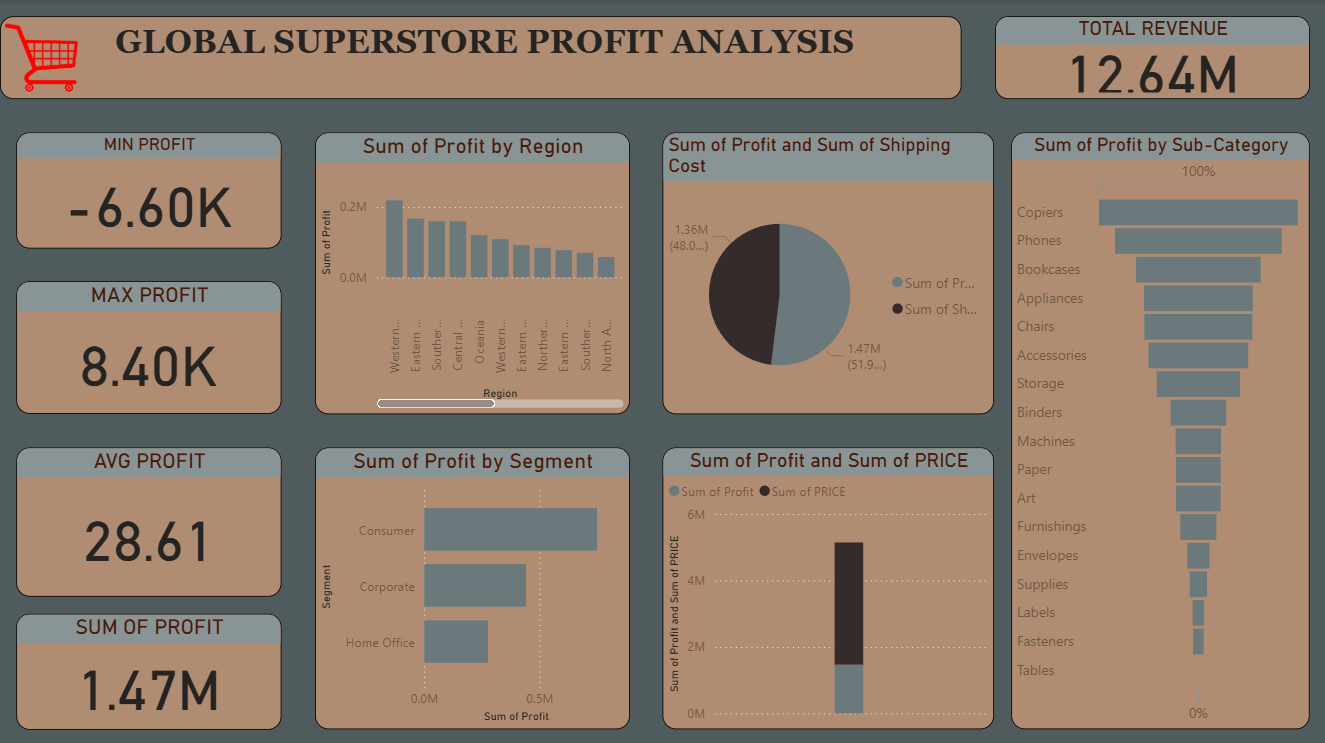

The dashboard page shown, as its layout file describes it:
{"tool":"powerbi","page":{"name":"Page 2","canvas":[1280,720],"ordinal":1},"visuals":[{"type":"card","title":"SUM OF PROFIT","fields":{"Values":["Sum(Orders.Profit)"]},"box":[16,592,256,112],"z":0},{"type":"card","title":"AVG PROFIT","fields":{"Values":["Orders.AVG PROFIT"]},"box":[16,432,256,144],"z":1000},{"type":"card","title":"MAX PROFIT","fields":{"Values":["Orders.MAX PROFIT"]},"box":[16,272,256,128],"z":2000},{"type":"card","title":"MIN PROFIT","fields":{"Values":["Orders.MIN PROFIT"]},"box":[16,128,256,112],"z":3000},{"type":"textbox","box":[0,16,928,80],"z":4000},{"type":"image","box":[0,16,80,80],"z":5000},{"type":"card","title":"TOTAL REVENUE","fields":{"Values":["CALENDER.TOTAL REVENUE"]},"box":[960,16,304,80],"z":6000},{"type":"clusteredColumnChart","fields":{"Category":["Orders.Region"],"Y":["Sum(Orders.Profit)"]},"box":[304,128,304,272],"z":7000},{"type":"clusteredBarChart","fields":{"Category":["Orders.Segment"],"Y":["Sum(Orders.Profit)"]},"box":[304,432,304,272],"z":8000},{"type":"ribbonChart","fields":{"Y":["Sum(Orders.Profit)","Sum(Orders.PRICE)"]},"box":[640,432,320,272],"z":9000},{"type":"funnel","fields":{"Y":["Sum(Orders.Profit)"],"Category":["Orders.Sub-Category"]},"box":[976,128,288,576],"z":10000},{"type":"pieChart","fields":{"Y":["Sum(Orders.Profit)","Sum(Orders.Shipping Cost)"]},"box":[640,128,320,272],"z":11000}]}

Visuals, with their boxes in screenshot pixels (x1, y1, x2, y2), scaled from the page's 1280x720 canvas onto the 1325x743 screenshot:
"SUM OF PROFIT" card: BBox(17, 611, 282, 726)
"AVG PROFIT" card: BBox(17, 446, 282, 594)
"MAX PROFIT" card: BBox(17, 281, 282, 413)
"MIN PROFIT" card: BBox(17, 132, 282, 248)
textbox: BBox(0, 17, 961, 99)
image: BBox(0, 17, 83, 99)
"TOTAL REVENUE" card: BBox(994, 17, 1308, 99)
clusteredColumnChart - Orders.Region x Sum(Orders.Profit): BBox(315, 132, 629, 413)
clusteredBarChart - Orders.Segment x Sum(Orders.Profit): BBox(315, 446, 629, 726)
ribbonChart - Sum(Orders.Profit) x Sum(Orders.PRICE): BBox(662, 446, 994, 726)
funnel - Sum(Orders.Profit) x Orders.Sub-Category: BBox(1010, 132, 1308, 726)
pieChart - Sum(Orders.Profit) x Sum(Orders.Shipping Cost): BBox(662, 132, 994, 413)
